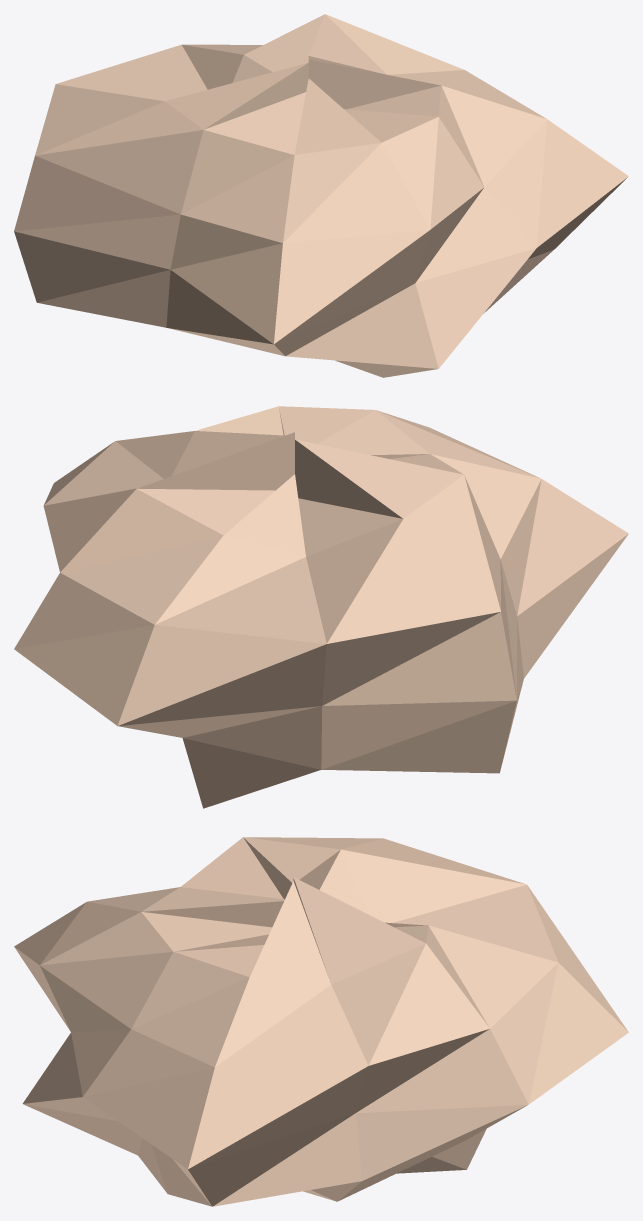
The model's file is rock_088.obj.
3 renders of one model, top to bottom at view 1: azimuth 30°, elevation 25°; view 2: azimuth 150°, elevation 25°; view 3: azimuth 270°, elevation 25°, orthographic. The views are drawn at different scales.
Bounding box in the file's own units: 1.43 × 0.7887 × 1.41.
